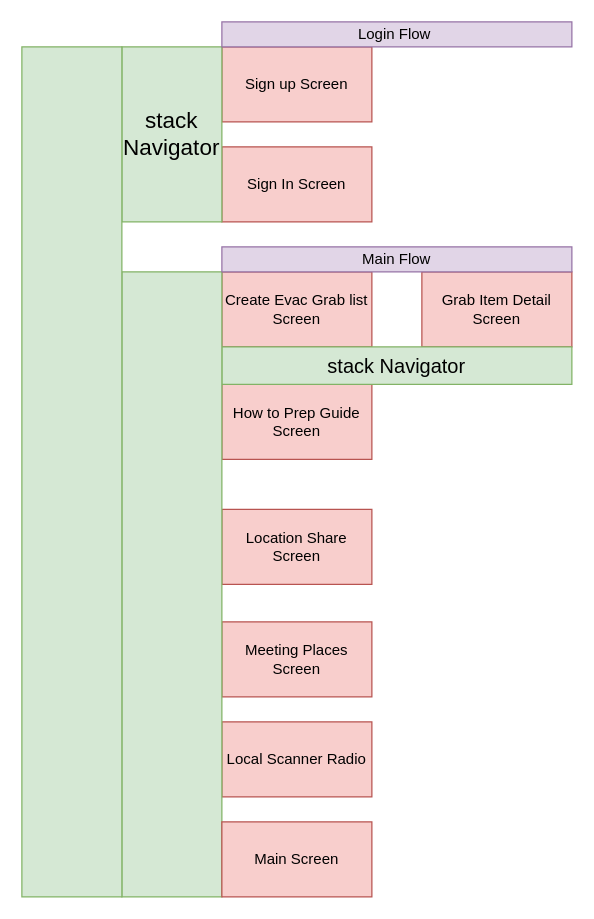
This 594x919 diagram has some shape labels left out. The shapes that lost their labels are listed below. From the top down, each one's centre as x and y in pixels, then its label:
(71,471): Switch Navigator
(171,584): Drawer Navigator
